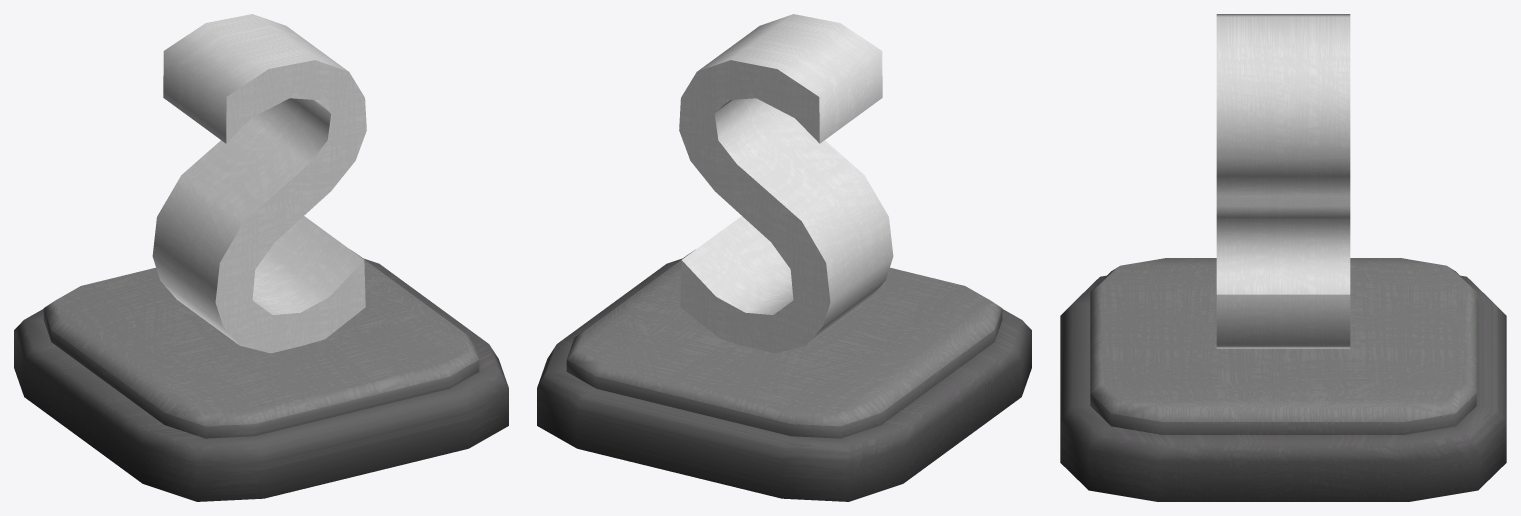
File: Statue Letter S Hand.fbx
3 views of the same model, side by side, from view 1: azimuth 30°, elevation 25°; view 2: azimuth 150°, elevation 25°; view 3: azimuth 270°, elevation 25° (orthographic). The views are drawn at different scales.
Parts seen in each view (by area): view 1: StatueBase (1), Letter; view 2: StatueBase (1), Letter; view 3: StatueBase (1), Letter.
Part boxes in pixels (left/top/right/bottom): StatueBase (1): left=14, top=249, right=508, bottom=501; Letter: left=152, top=14, right=366, bottom=353; StatueBase (1): left=537, top=249, right=1031, bottom=501; Letter: left=679, top=14, right=893, bottom=353; StatueBase (1): left=1060, top=258, right=1506, bottom=501; Letter: left=1216, top=14, right=1350, bottom=348.
Bounding box in the file's own units: 0.9118 × 0.8727 × 0.9299.
